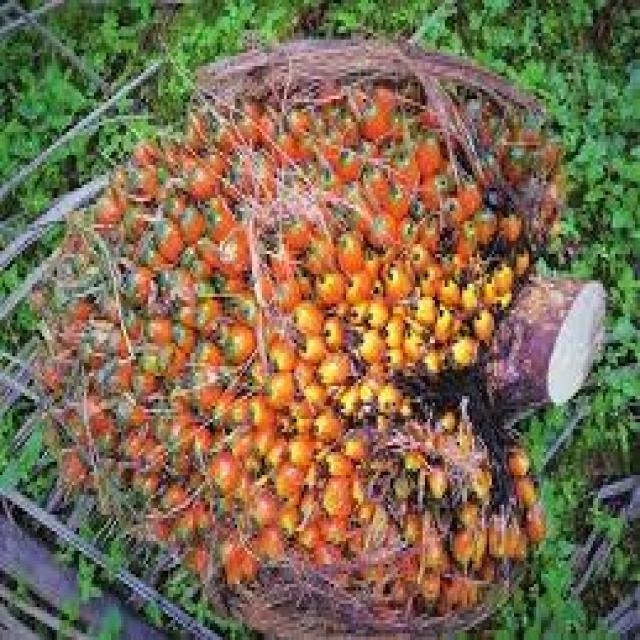Ripefruit: (43, 95, 560, 590)
